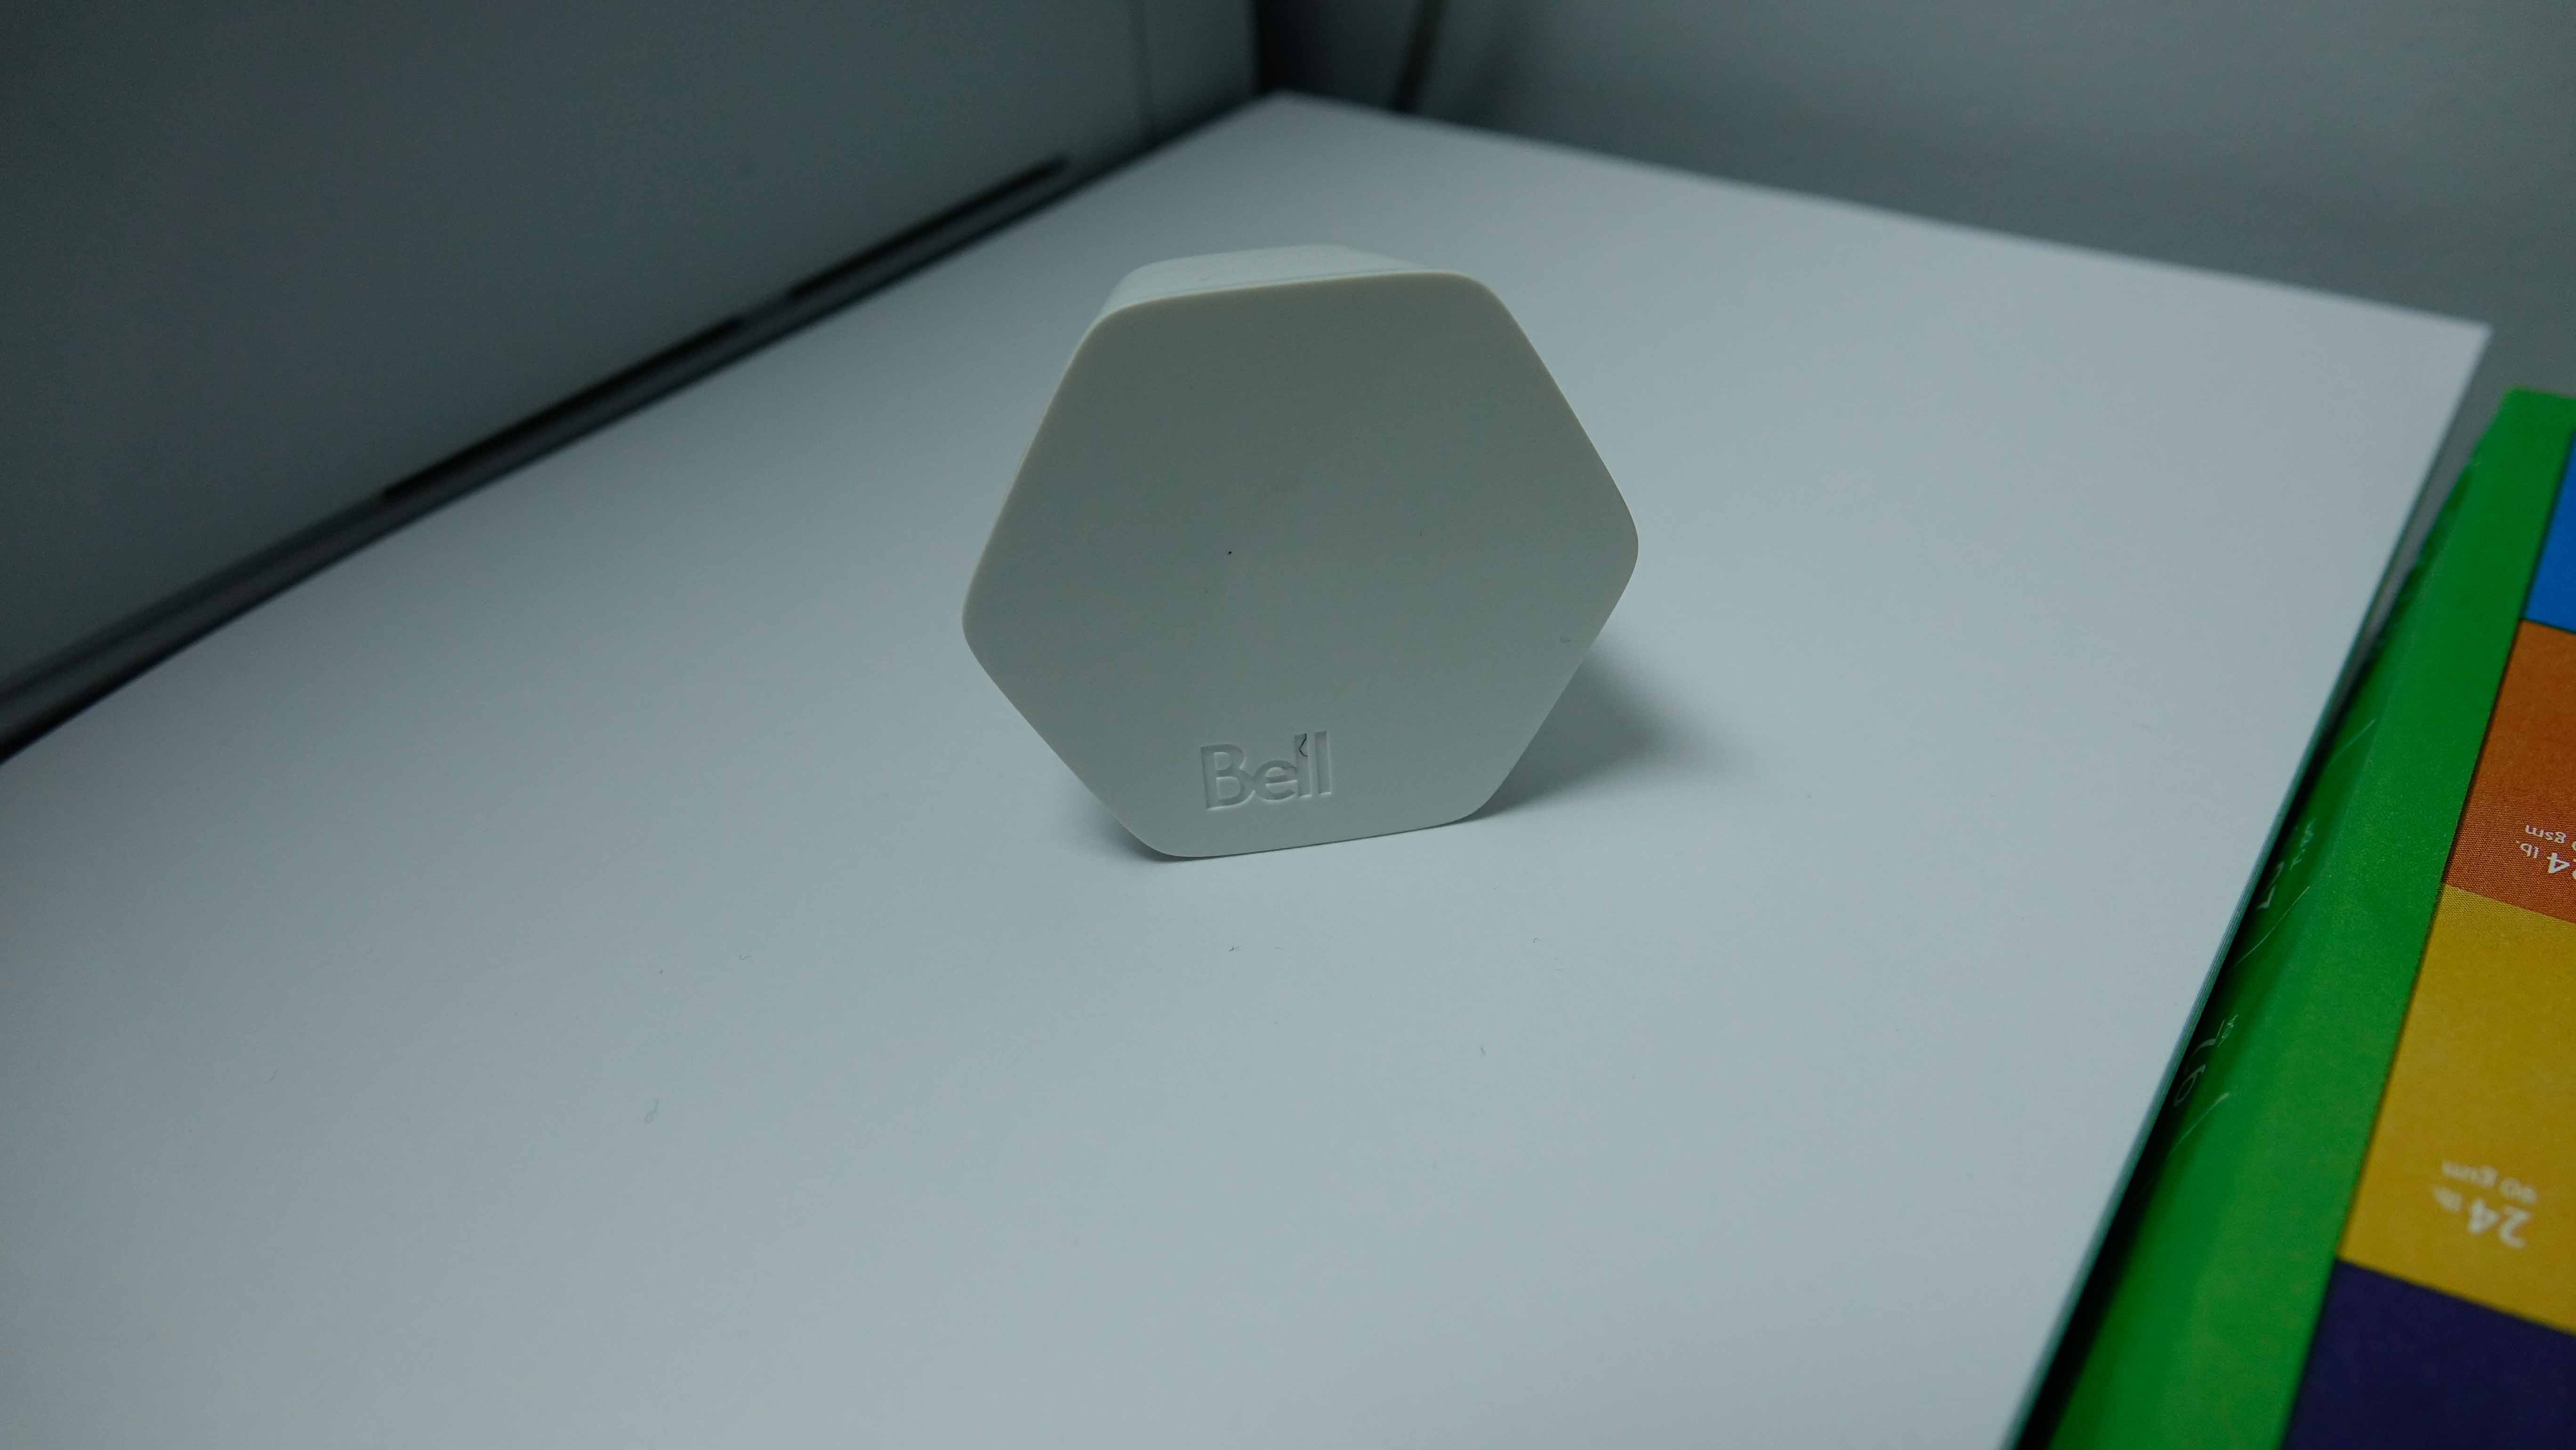pod: (948, 221, 1663, 875)
